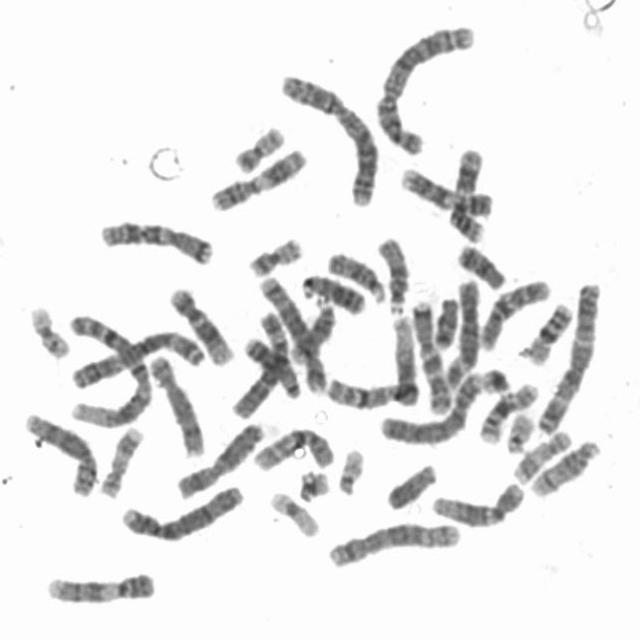A1: (61, 305, 155, 430), (319, 308, 420, 412)
A2: (273, 64, 382, 209), (369, 16, 478, 156)
A3: (530, 273, 604, 435), (66, 322, 208, 390)
B4: (373, 364, 484, 447), (112, 476, 246, 544)
B5: (252, 268, 329, 396), (321, 513, 465, 570)
C10: (473, 270, 553, 352), (246, 419, 337, 473)
C11: (201, 138, 310, 213), (442, 140, 489, 244)
C12: (162, 278, 236, 367), (426, 474, 527, 529)
C6: (225, 304, 291, 421), (438, 271, 483, 391)
C7: (92, 211, 215, 266), (404, 290, 454, 416)
C8: (17, 404, 100, 499), (142, 346, 208, 459)
C9: (394, 158, 495, 218), (38, 564, 158, 606)
D13: (238, 328, 305, 401), (294, 265, 368, 317)
D14: (524, 432, 603, 498), (284, 292, 338, 364)
D15: (320, 242, 391, 304), (371, 229, 412, 317)
E16: (472, 374, 540, 446), (518, 294, 576, 366)
E17: (506, 422, 574, 484), (94, 418, 146, 499)
E18: (451, 235, 508, 291), (428, 288, 462, 350)
F19: (22, 296, 74, 360), (263, 483, 322, 539)
F20: (226, 117, 288, 174), (241, 229, 305, 277)
G21: (292, 462, 332, 502), (474, 359, 514, 395)
G22: (331, 440, 367, 496), (499, 404, 536, 454)
X: (170, 414, 268, 501)
Y: (378, 454, 439, 512)
